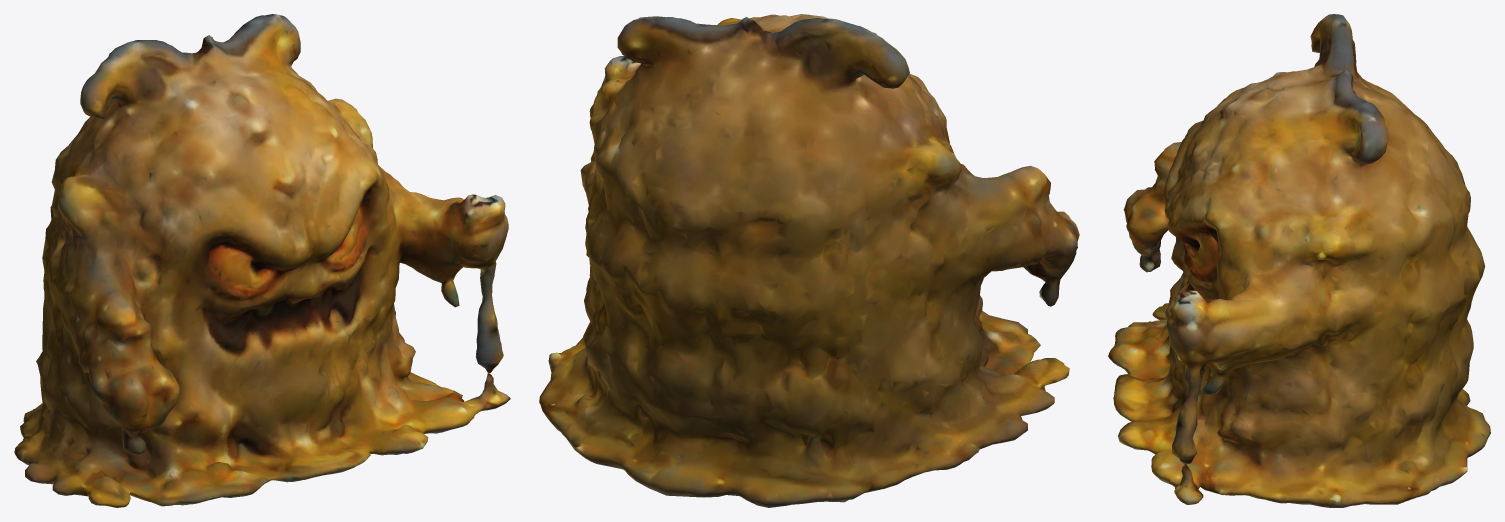
Rendered from grease.glb.
3 renders of one model, left to right at view 1: azimuth 30°, elevation 25°; view 2: azimuth 150°, elevation 25°; view 3: azimuth 270°, elevation 25°, orthographic. The views are drawn at different scales.
Parts seen in each view (by area): view 1: world; view 2: world; view 3: world.
Part boxes in pixels (x1=…): world: x1=14, y1=14, x2=510, y2=507; world: x1=539, y1=14, x2=1079, y2=507; world: x1=1108, y1=14, x2=1490, y2=507.
Size of the model in its own units: 0.9016 by 0.8035 by 0.7218.
Materials: 1 (1 with a texture image).
